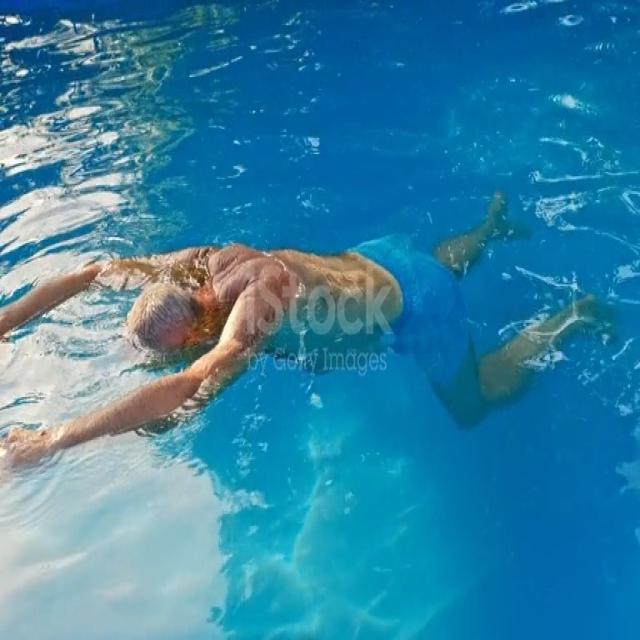Drowning: (0, 185, 622, 470)
